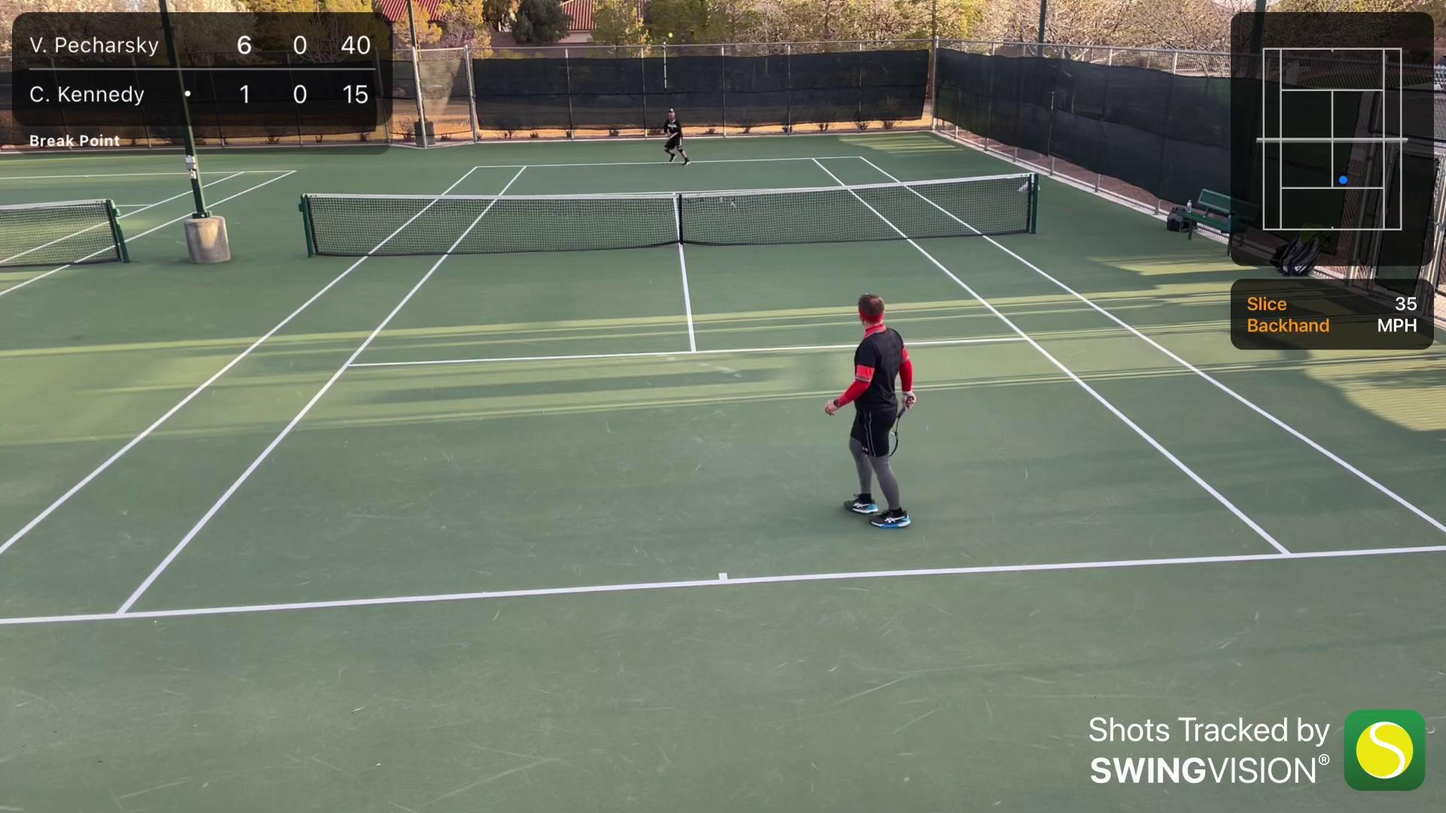ball: (667, 33, 673, 38)
